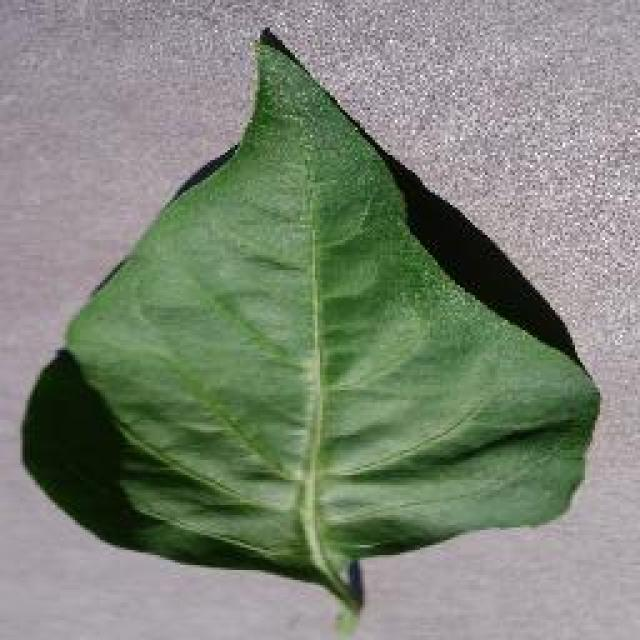Chilli_Healthy: (22, 25, 602, 633)
